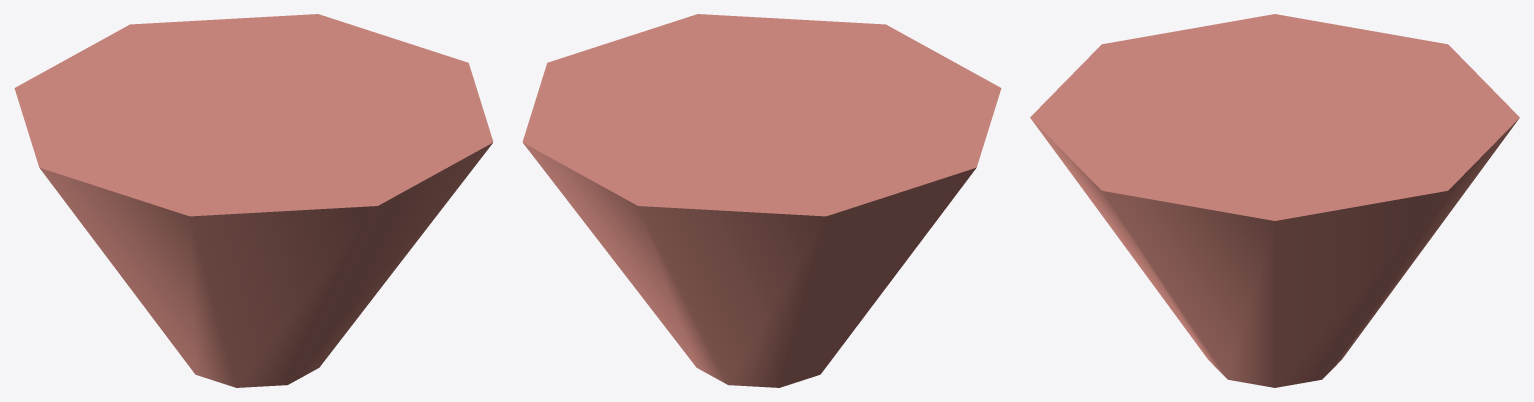
File: mushroom-cluster.gltf
3 renders of one model, left to right at view 1: azimuth 30°, elevation 25°; view 2: azimuth 150°, elevation 25°; view 3: azimuth 270°, elevation 25°, orthographic.
Visible parts, largest first — view 1: Mushroom; view 2: Mushroom; view 3: Mushroom.
Boxes of the visible parts, box(x1,y1,x2,y2) form: Mushroom: box(14, 14, 493, 387); Mushroom: box(522, 14, 1001, 387); Mushroom: box(1030, 14, 1519, 387).
Bounding box in the file's own units: 0.44 × 0.24 × 0.44.
